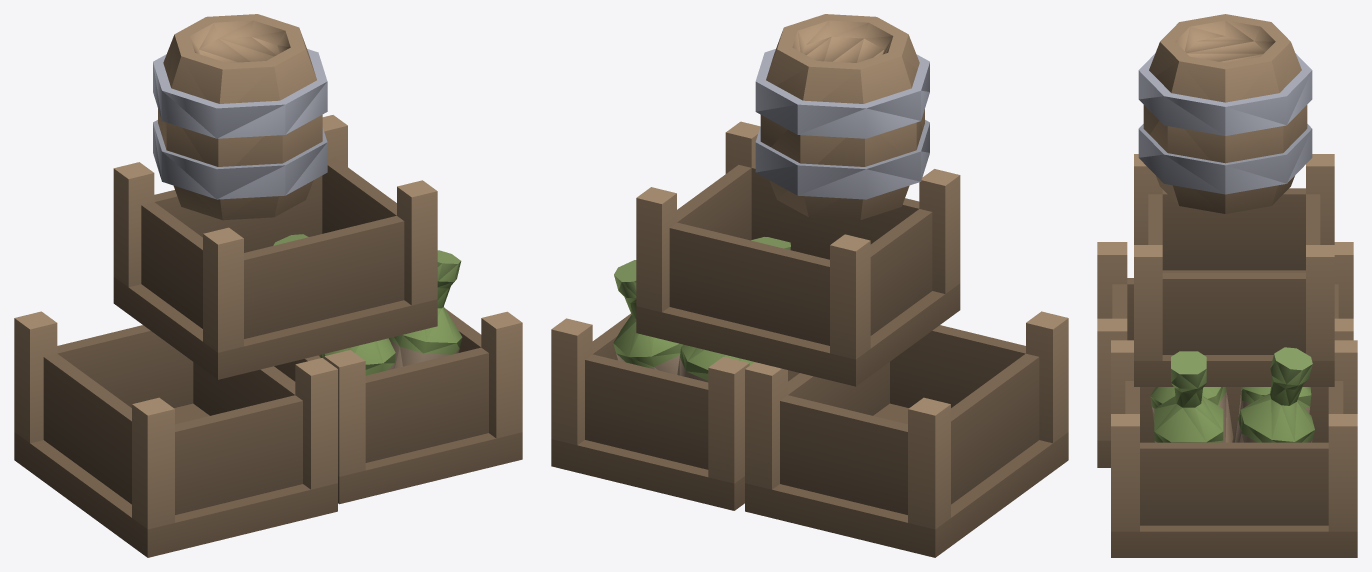
The model's file is K_CrateStack.glb.
3 renders of one model, left to right at view 1: azimuth 30°, elevation 25°; view 2: azimuth 150°, elevation 25°; view 3: azimuth 270°, elevation 25°, orthographic. The views are drawn at different scales.
Parts seen in each view (by area): view 1: K_CrateStack; view 2: K_CrateStack; view 3: K_CrateStack.
Boxes of the visible parts, bbox=[...] form: K_CrateStack: bbox=[14, 14, 522, 557]; K_CrateStack: bbox=[551, 14, 1068, 557]; K_CrateStack: bbox=[1097, 14, 1357, 557].
Bounding box in the file's own units: 2.39 × 2.56 × 1.47.
